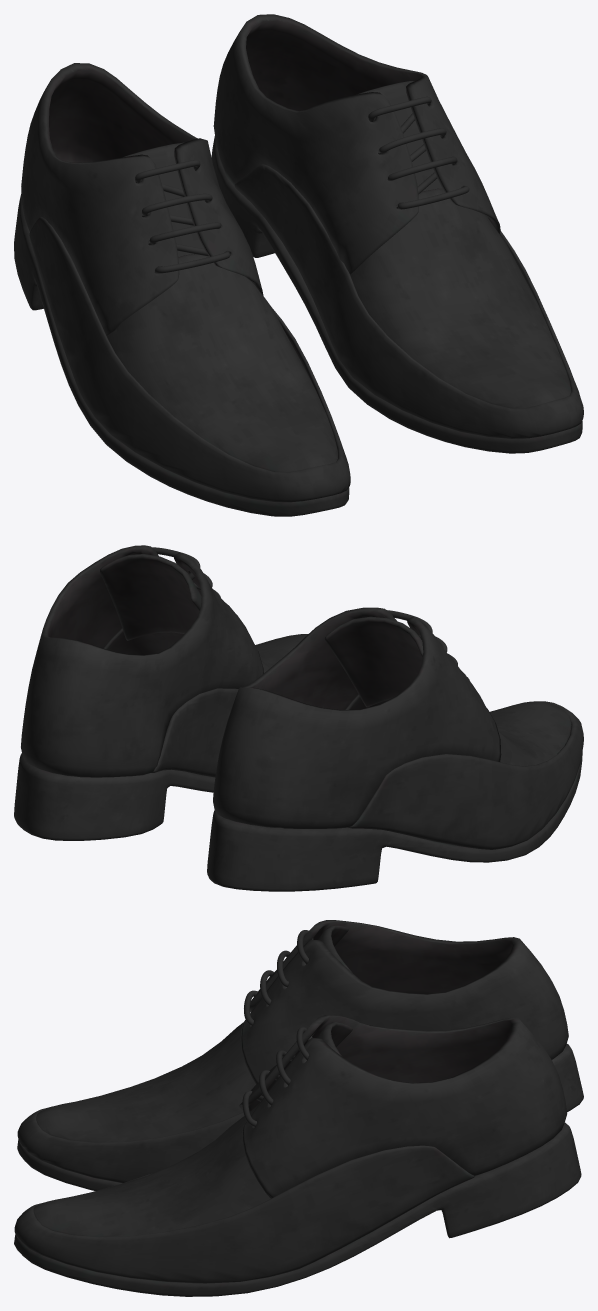
Rendered from Shoe3-2.glb.
3 renders of one model, top to bottom at view 1: azimuth 30°, elevation 25°; view 2: azimuth 150°, elevation 25°; view 3: azimuth 270°, elevation 25°, orthographic. The views are drawn at different scales.
Parts seen in each view (by area): view 1: Object_4.015; view 2: Object_4.015; view 3: Object_4.015.
Part boxes in pixels (x1,y1,x2,y2): Object_4.015: [14, 14, 583, 516]; Object_4.015: [14, 545, 583, 891]; Object_4.015: [14, 920, 583, 1296].
Size of the model in its own units: 1.38 by 0.8293 by 1.78.
Materials: 1 (1 with a texture image).
